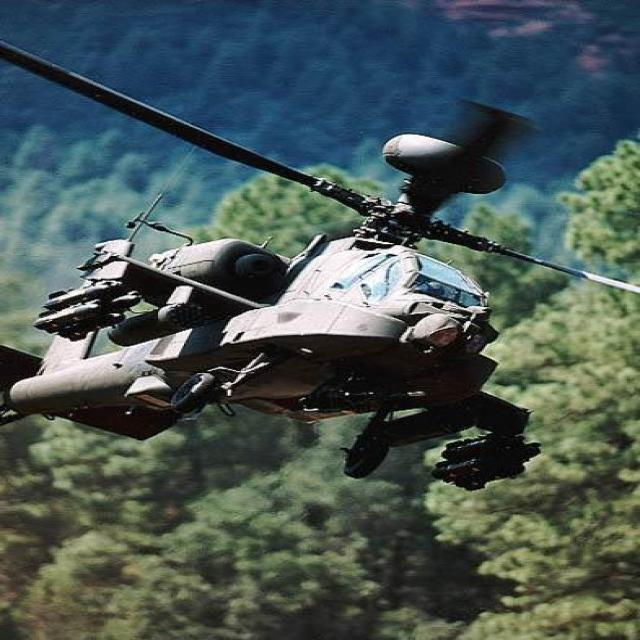MIL_HELO: (0, 35, 640, 488)
